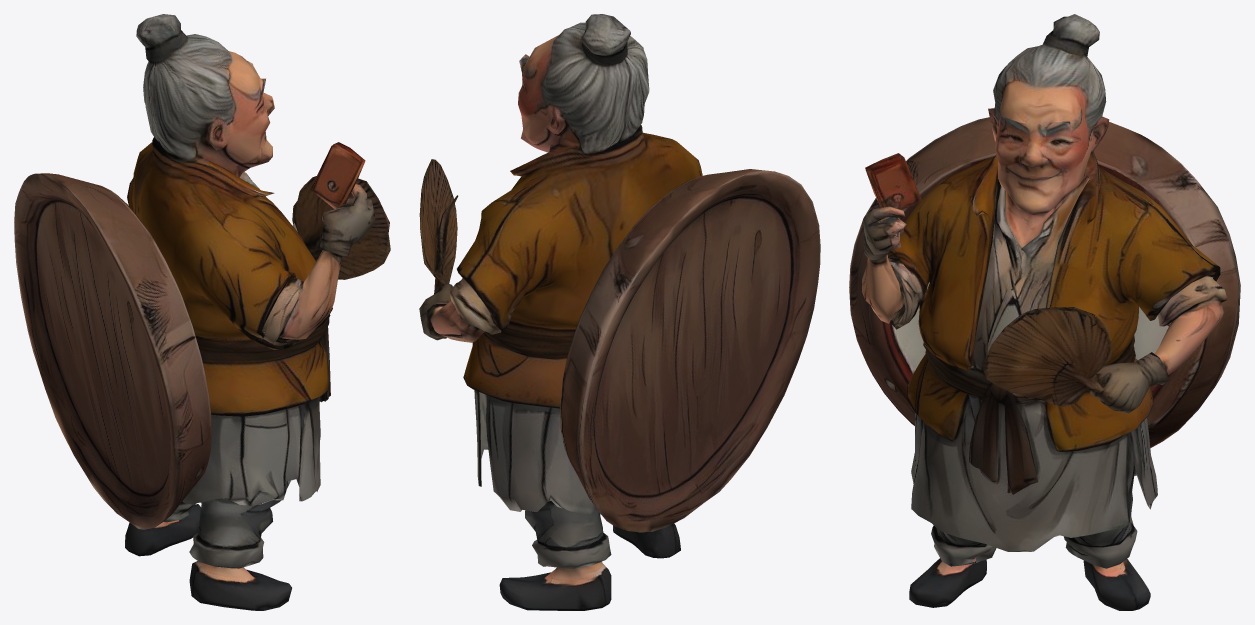
The model's file is p_b1p_wangbo.glb.
3 views of the same model, side by side, from view 1: azimuth 30°, elevation 25°; view 2: azimuth 150°, elevation 25°; view 3: azimuth 270°, elevation 25° (orthographic). The views are drawn at different scales.
Visible parts, largest first — view 1: tripo_node_a3c7102e-2644-4e92-a952-43a31ea4d789; view 2: tripo_node_a3c7102e-2644-4e92-a952-43a31ea4d789; view 3: tripo_node_a3c7102e-2644-4e92-a952-43a31ea4d789.
Boxes of the visible parts, <box> form: tripo_node_a3c7102e-2644-4e92-a952-43a31ea4d789: <box>14,14,390,610</box>; tripo_node_a3c7102e-2644-4e92-a952-43a31ea4d789: <box>419,14,820,610</box>; tripo_node_a3c7102e-2644-4e92-a952-43a31ea4d789: <box>849,14,1240,610</box>.
Bounding box in the file's own units: 0.5747 × 1 × 0.6302.
1 material, 1 textured.
